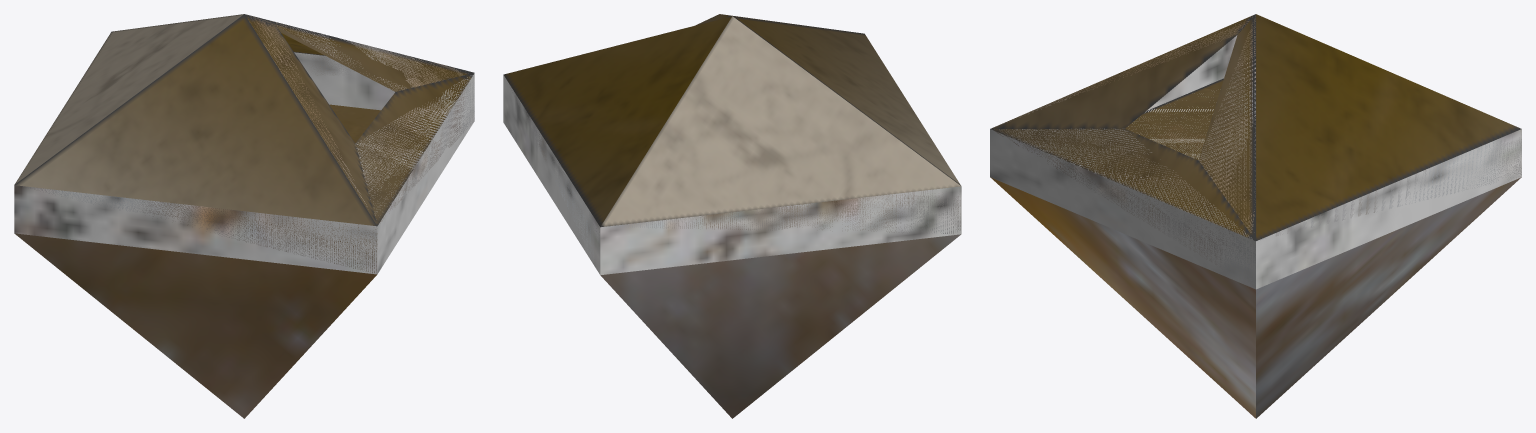
Rendered from L1Rboss.fbx.
3 views of the same model, side by side, from view 1: azimuth 30°, elevation 25°; view 2: azimuth 150°, elevation 25°; view 3: azimuth 270°, elevation 25° (orthographic).
Visible parts, largest first — view 1: ceiling, outside, walls, floor; view 2: ceiling, outside, walls; view 3: ceiling, outside, walls, floor.
Boxes of the visible parts, <box> form: ceiling: <box>14,14,474,226</box>; outside: <box>14,16,474,418</box>; walls: <box>14,52,474,274</box>; floor: <box>329,104,380,143</box>; ceiling: <box>503,14,960,227</box>; outside: <box>510,16,960,418</box>; walls: <box>503,75,961,275</box>; ceiling: <box>990,14,1521,240</box>; outside: <box>990,16,1521,418</box>; walls: <box>990,35,1521,289</box>; floor: <box>1125,78,1223,160</box>.
Bounding box in the file's own units: 7200 × 6049 × 7200.
Materials: 4 (4 with a texture image).
